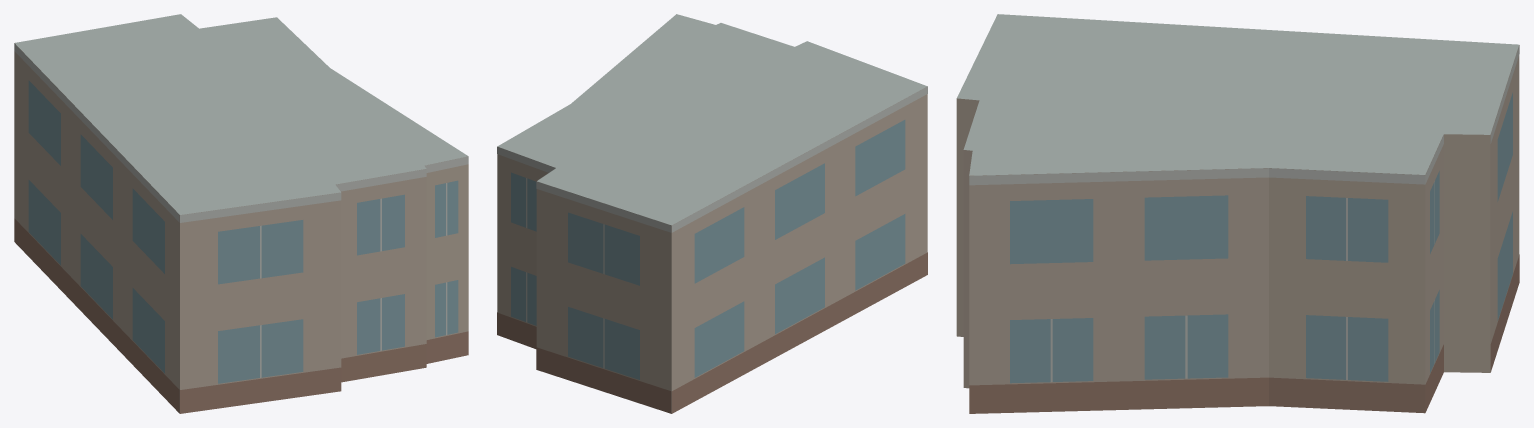
File: survey-upis-32835838.glb
3 views of the same model, side by side, from view 1: azimuth 30°, elevation 25°; view 2: azimuth 150°, elevation 25°; view 3: azimuth 270°, elevation 25° (orthographic). The views are drawn at different scales.
Parts seen in each view (by area): view 1: survey-upis-32835838.tmp; view 2: survey-upis-32835838.tmp; view 3: survey-upis-32835838.tmp.
Boxes of the visible parts, <box> form: survey-upis-32835838.tmp: <box>14,14,468,413</box>; survey-upis-32835838.tmp: <box>497,14,927,413</box>; survey-upis-32835838.tmp: <box>956,14,1519,413</box>.
Size of the model in its own units: 8.9 by 6.1 by 13.08.
